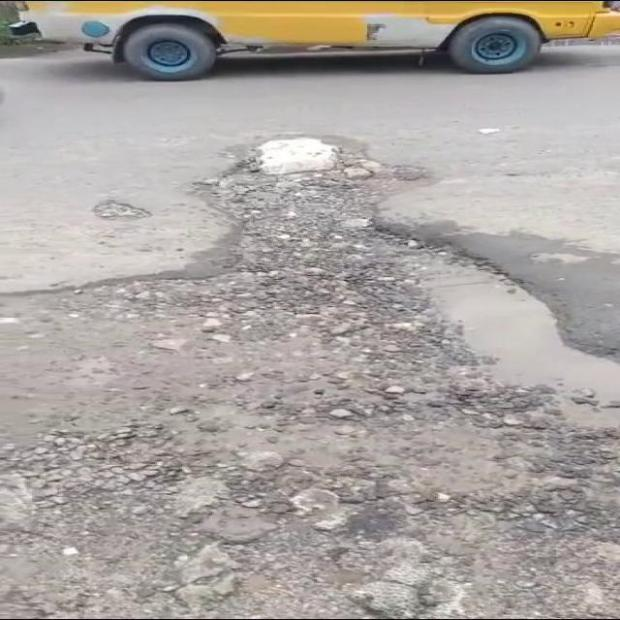lubang: (0, 152, 619, 615), (94, 199, 151, 220)
